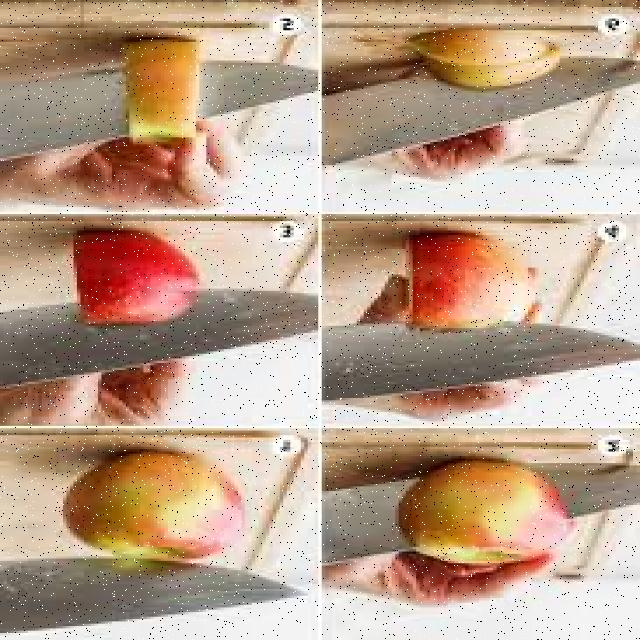Apple: (67, 450, 256, 561), (394, 461, 576, 565), (392, 238, 544, 338), (112, 30, 213, 147), (76, 238, 200, 322), (414, 30, 568, 93)
